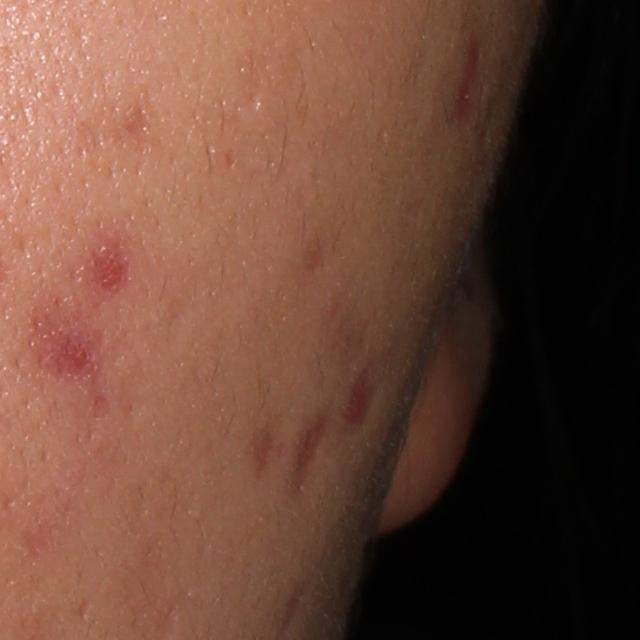atrophic_scar: (291, 409, 328, 496), (123, 109, 172, 153)
